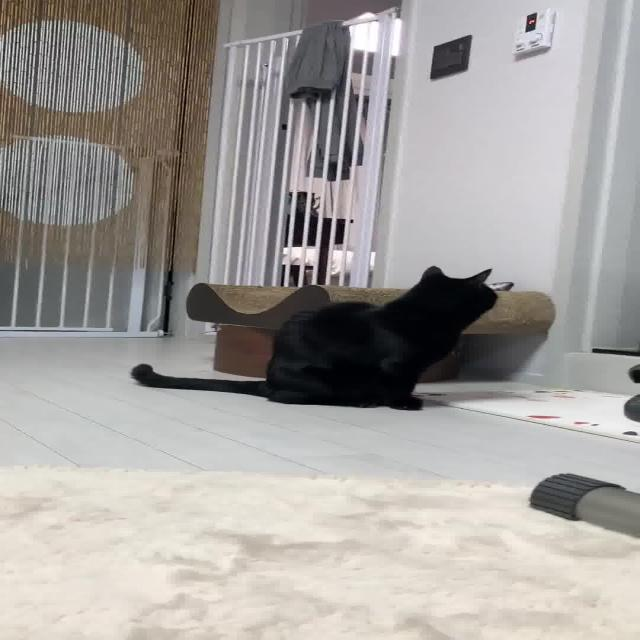cat: (117, 265, 501, 417)
